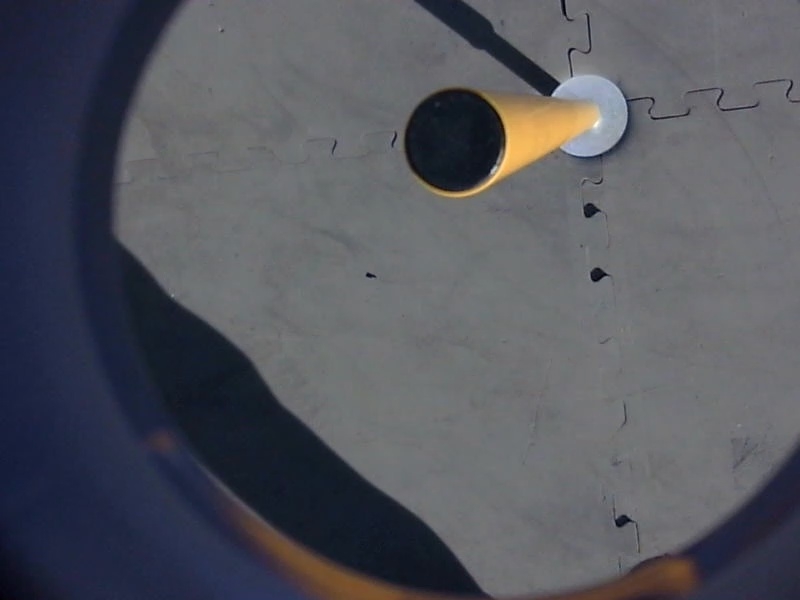tip: (395, 81, 514, 203)
